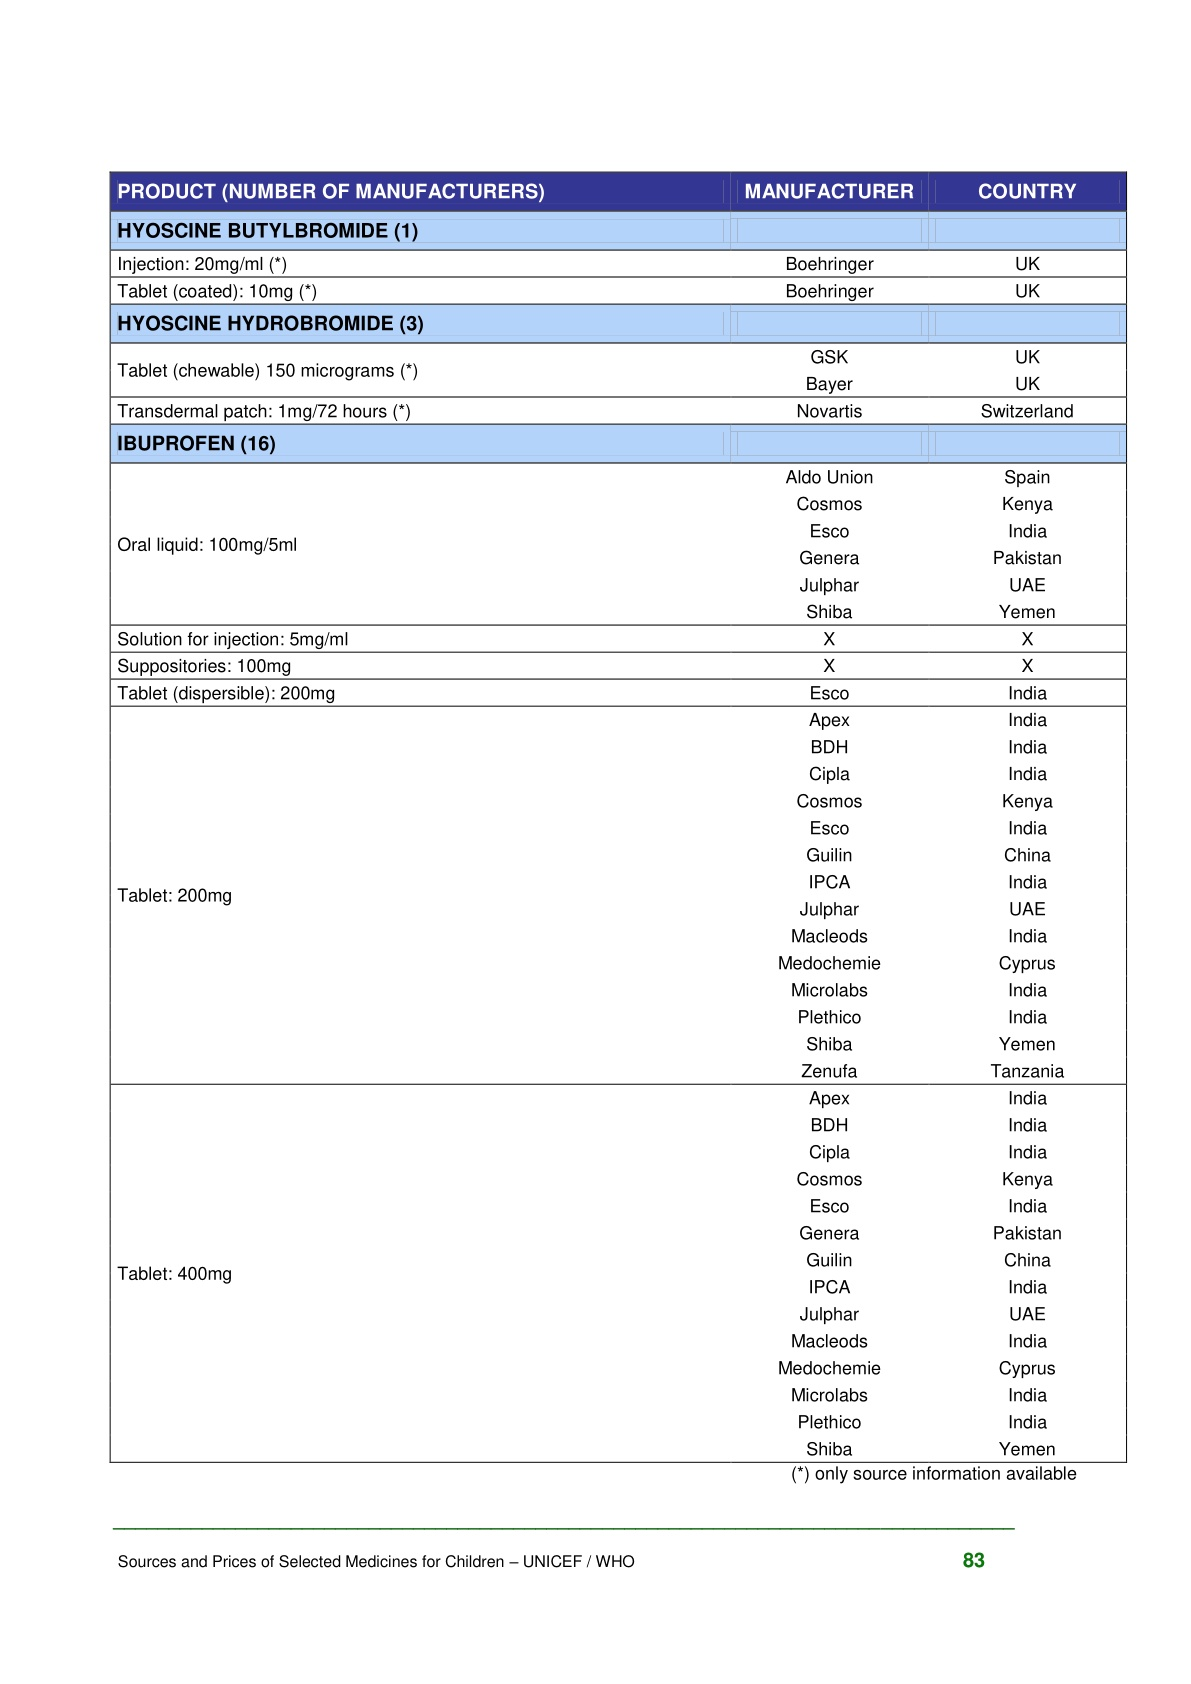partial_lined_merged_cells: (106, 170, 1129, 1464)
